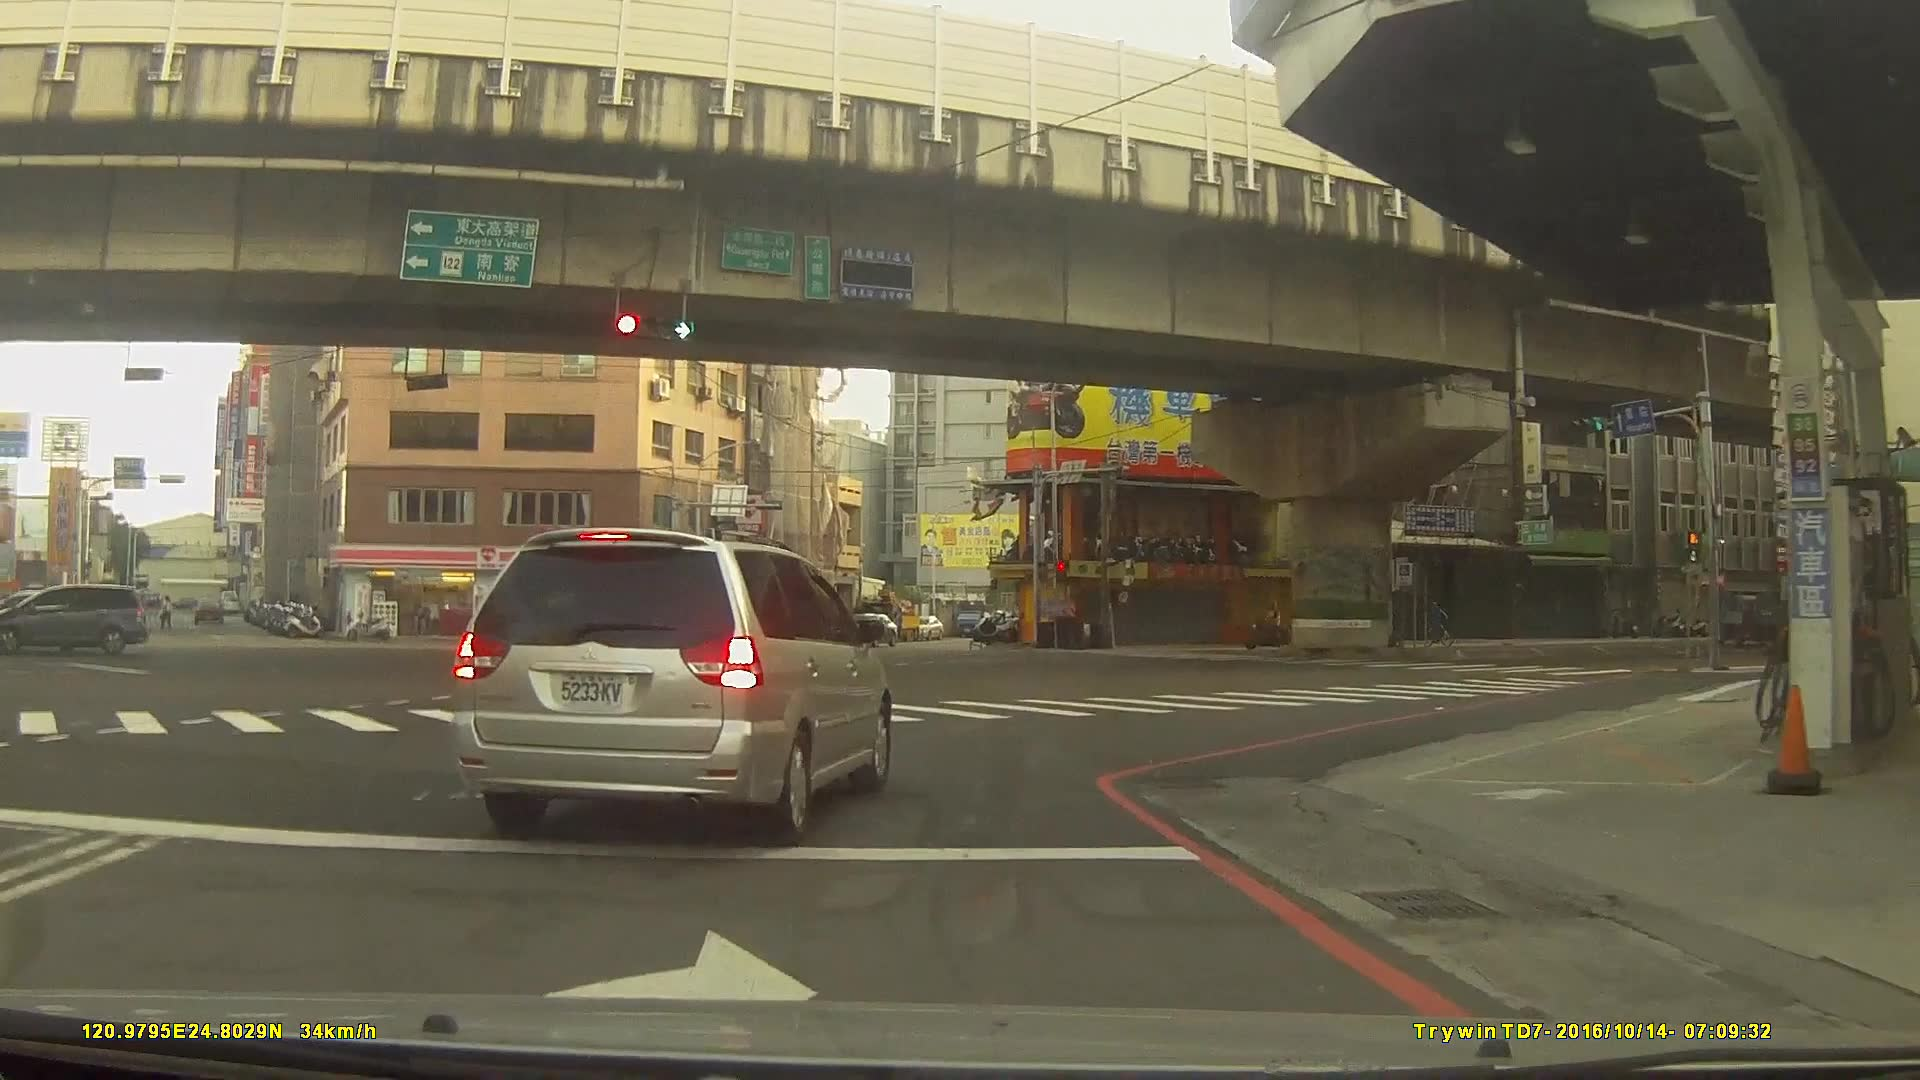rider: (1246, 601, 1293, 652)
vehicle: (454, 526, 893, 847), (0, 580, 147, 653), (1718, 585, 1791, 649), (832, 615, 895, 652), (543, 606, 605, 633), (189, 594, 222, 625)
